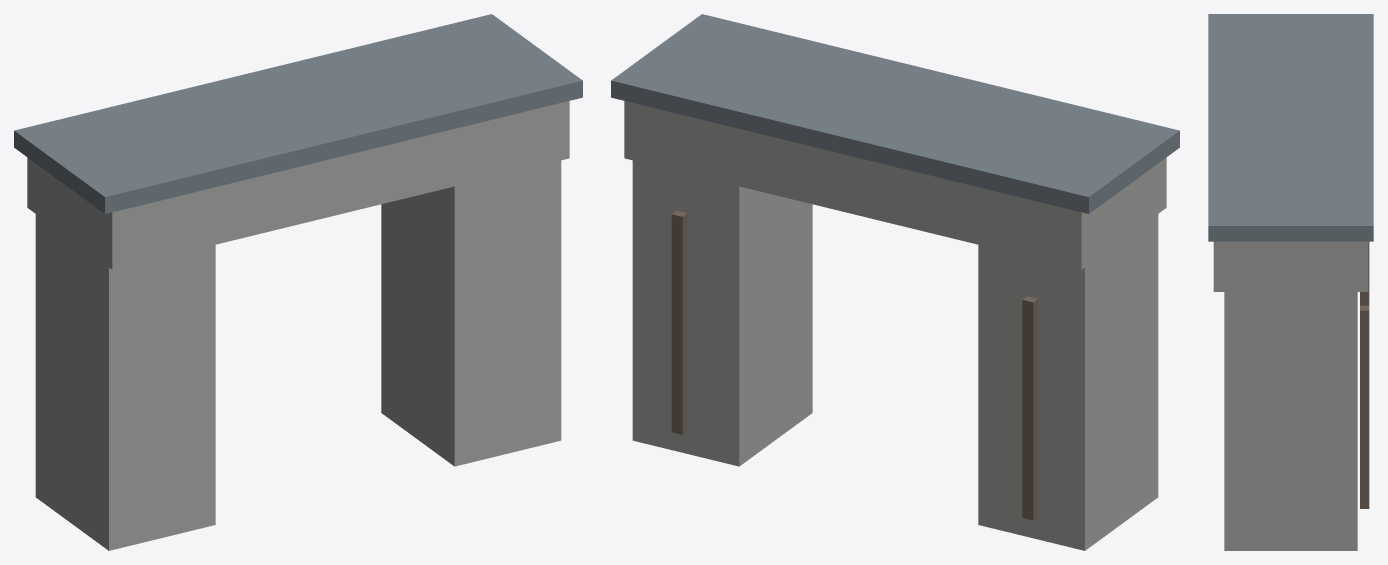
Rendered from stone_arch.gltf.
The picture shows the model from 3 angles, left to right: view 1: azimuth 30°, elevation 25°; view 2: azimuth 150°, elevation 25°; view 3: azimuth 270°, elevation 25°; orthographic projection. The views are drawn at different scales.
Parts seen in each view (by area): view 1: stone_arch; view 2: stone_arch; view 3: stone_arch.
Boxes of the visible parts, x1,y1,x2,y2 form: stone_arch: [14, 14, 582, 550]; stone_arch: [611, 14, 1179, 550]; stone_arch: [1208, 14, 1373, 550].
Bounding box in the file's own units: 9.4 × 6.83 × 3.1.
